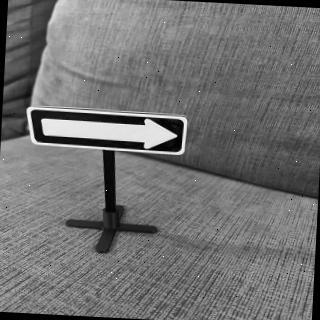sign_oneway_right: (25, 106, 191, 158)
